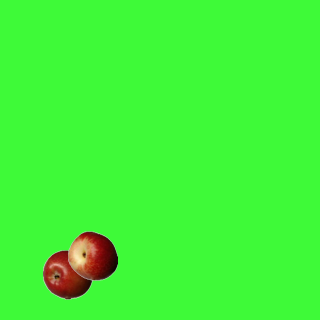Apple Braeburn: (42, 249, 92, 299)
Nectarine: (67, 230, 117, 280)
